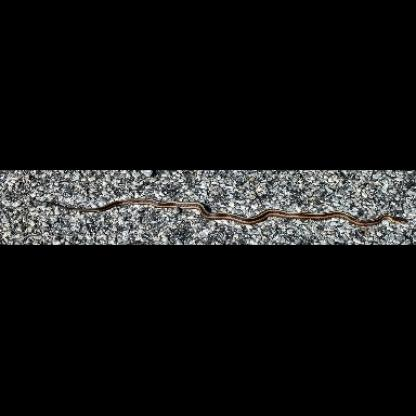Snake: (48, 195, 413, 229)
